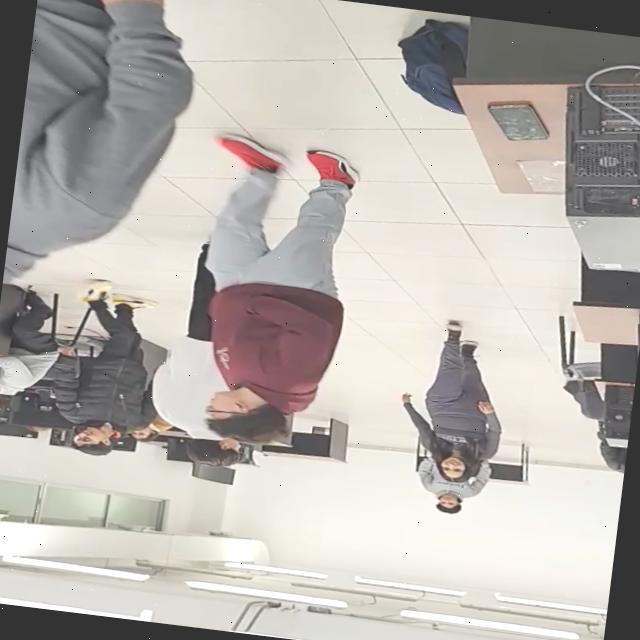Persona: (178, 128, 348, 454), (399, 317, 524, 480), (51, 278, 148, 464), (140, 324, 237, 469), (397, 470, 498, 522)
